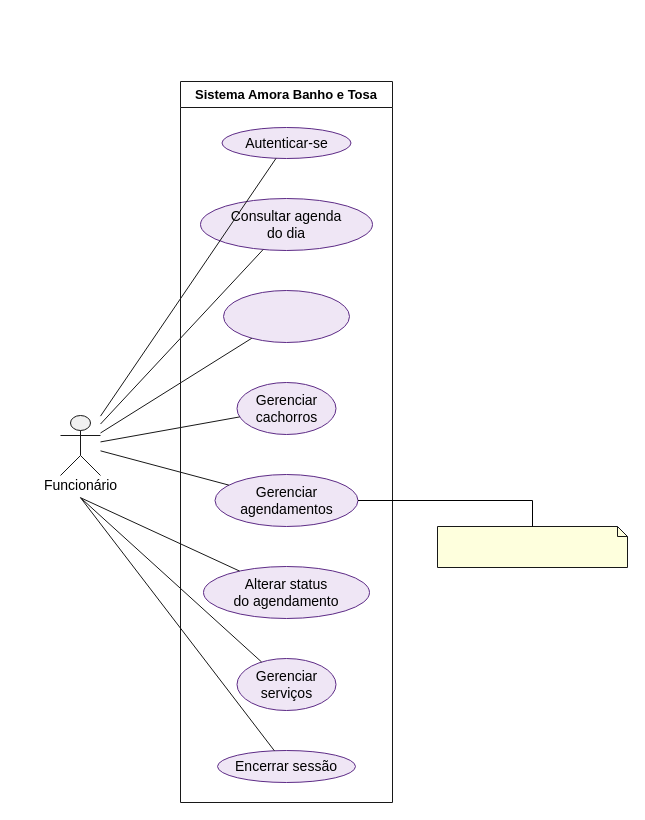
Some shapes in this 645 by 820 pixel diagram are drawn without their labels. Each missing label, with the centre of its shape:
"Agendado, em andamento, concluído ou cancelado." goes at (x=532, y=547).
"Gerenciar proprietários" goes at (x=286, y=316).
